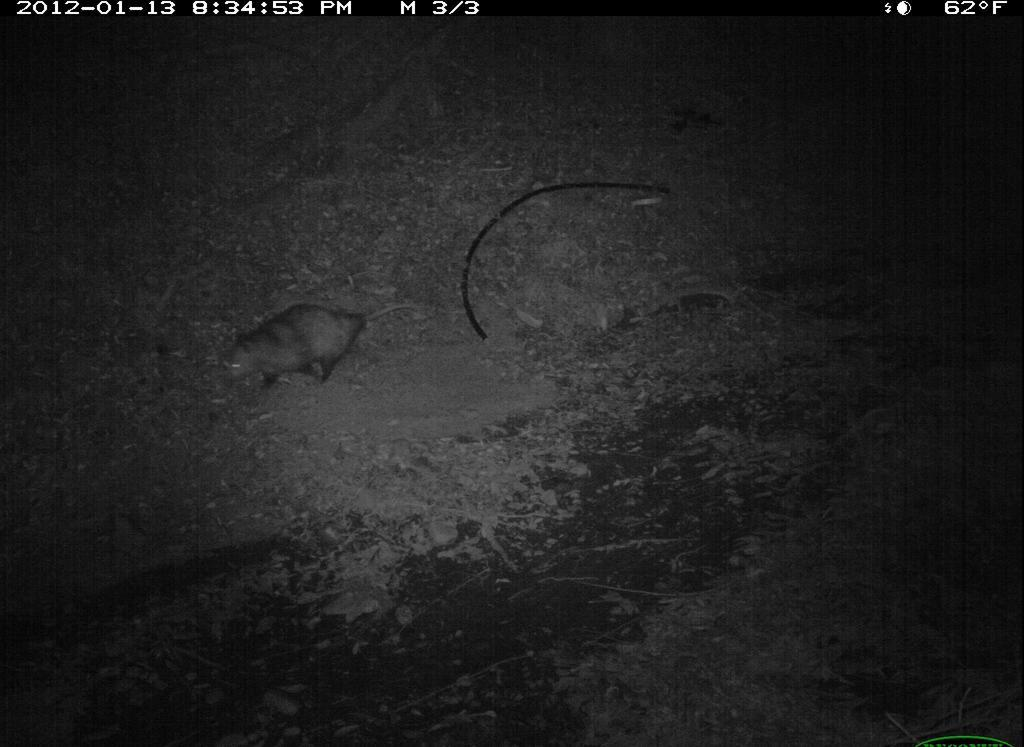opossum: (215, 287, 459, 404)
